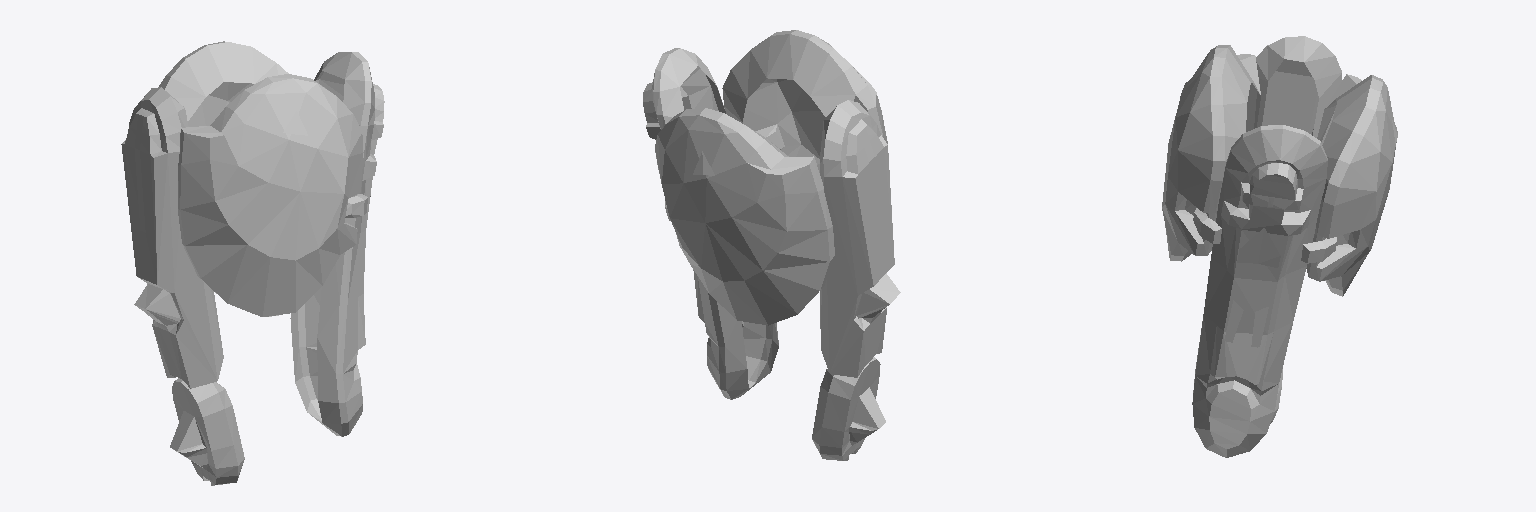
The model's file is XG89 Narrow Legs Left Shin MALE.obj.
The picture shows the model from 3 angles: view 1: azimuth 30°, elevation 25°; view 2: azimuth 150°, elevation 25°; view 3: azimuth 270°, elevation 25°; orthographic projection.
Visible parts, largest first — view 1: armor_legs_stealth; view 2: armor_legs_stealth; view 3: armor_legs_stealth.
Boxes of the visible parts, box(x1,y1,x2,y2) form: armor_legs_stealth: box(121, 41, 384, 485); armor_legs_stealth: box(643, 30, 900, 460); armor_legs_stealth: box(1162, 36, 1397, 457).
Size of the model in its own units: 9.7 by 15.32 by 8.14.